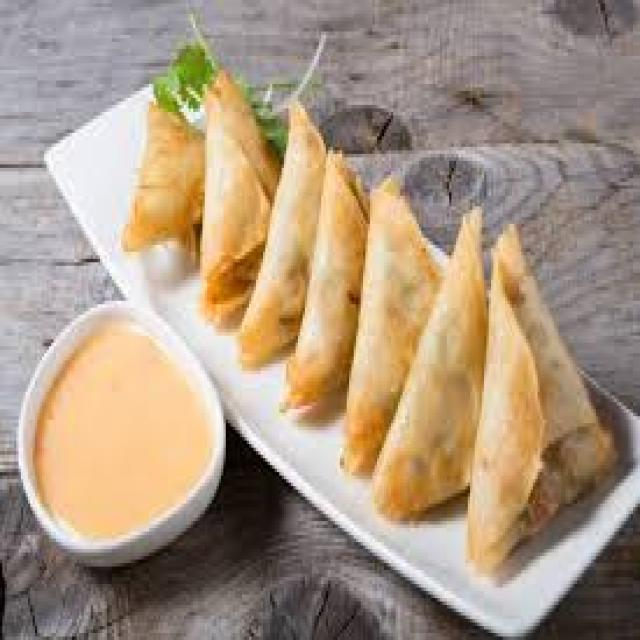SAMOSA: (465, 224, 612, 570), (372, 206, 484, 518), (344, 178, 440, 472), (237, 105, 323, 364), (282, 150, 365, 416), (200, 73, 277, 325), (123, 101, 202, 255)
